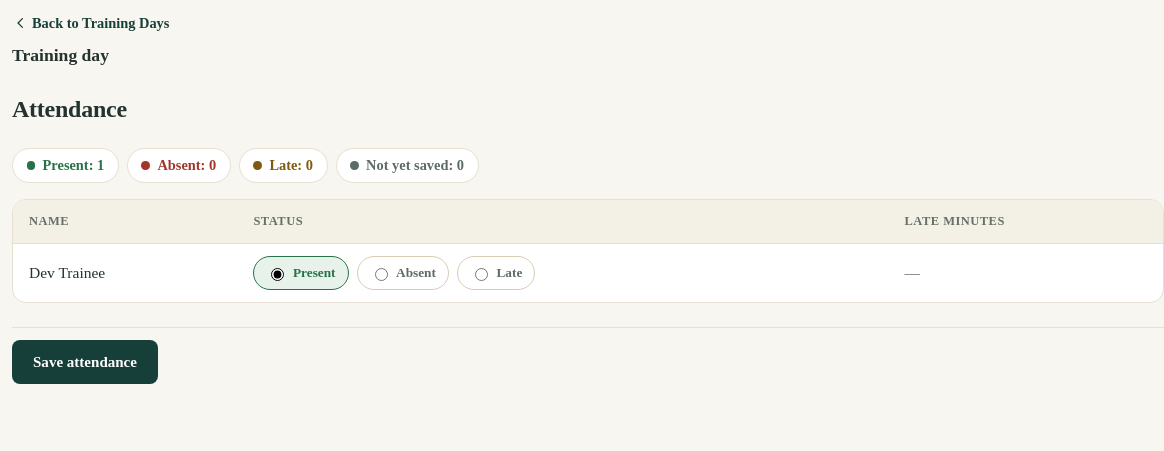
Test: Supervisor attendance page › saves the bulk upsert payload with late_minutes only for late entries
Expected: the text "Dev Trainee" is shown, 13,244 -> 237,302
Click the radio button labelled "Late" at {"x": 481, "y": 275}, box 475,268 -> 488,281
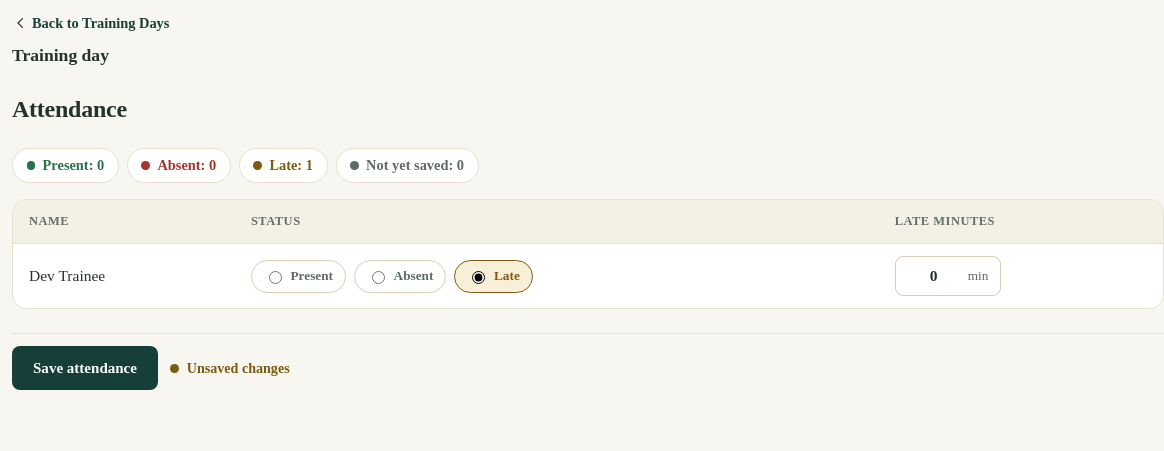
Replace the text in the number field named "Late minutes" with "15" at {"x": 934, "y": 276}, box 908,264 -> 960,288
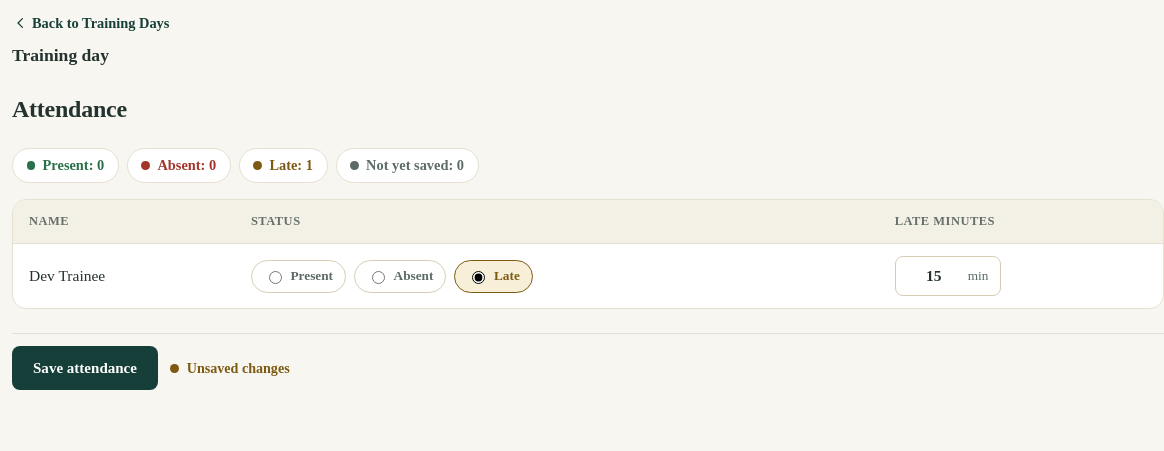
Click the button "Save attendance" at {"x": 85, "y": 368}, box 12,346 -> 158,390
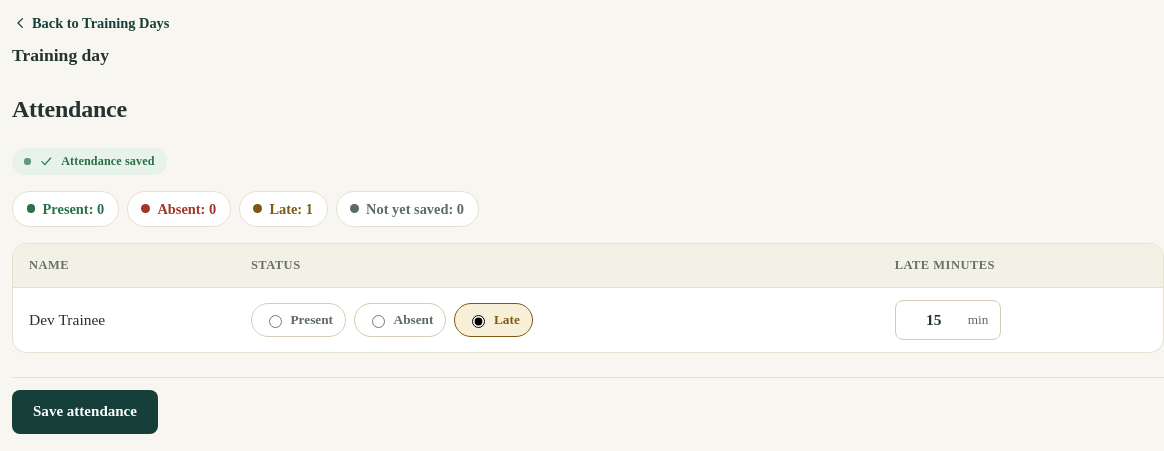
Result: the text "Attendance saved" is shown at 12,148 -> 167,175
Result: the message reads "Attendance saved" at 61,154 -> 155,168
Result: the text "Unsaved changes" is gone
